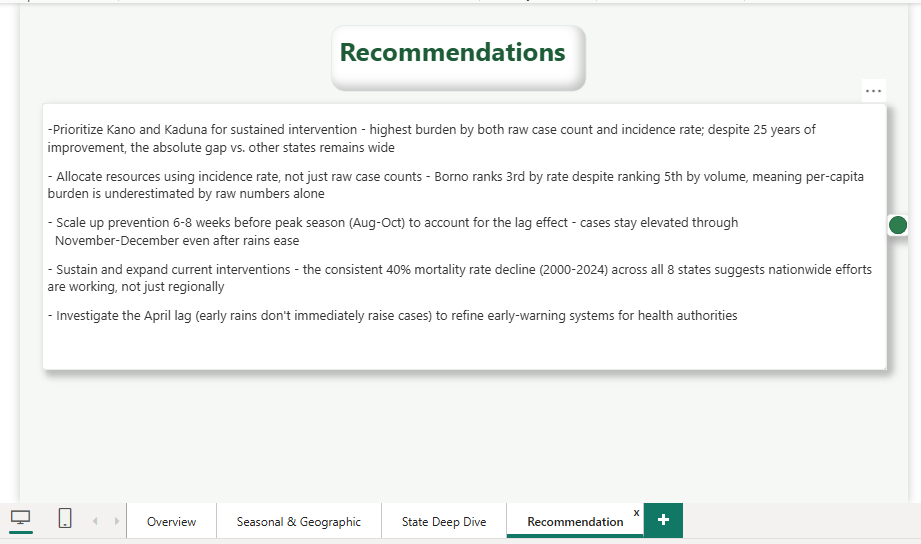

What the dashboard file says about the page in this screenshot:
{"tool":"powerbi","page":{"name":"Recommendation","canvas":[1280,720],"ordinal":3},"visuals":[{"type":"textbox","box":[32,144,1216,384],"z":0},{"type":"textbox","box":[448,32,368,96],"z":1000},{"type":"shape","box":[1248,304,32,32],"z":2000}]}

Visuals, with their boxes on the page's 1280x720 design canvas (x1, y1, x2, y2). These are canvas units, not pixel positions in the 921x544 screenshot, which may show the page scaled, cropped or inside an application window:
textbox: [x1=32, y1=144, x2=1248, y2=528]
textbox: [x1=448, y1=32, x2=816, y2=128]
shape: [x1=1248, y1=304, x2=1280, y2=336]
